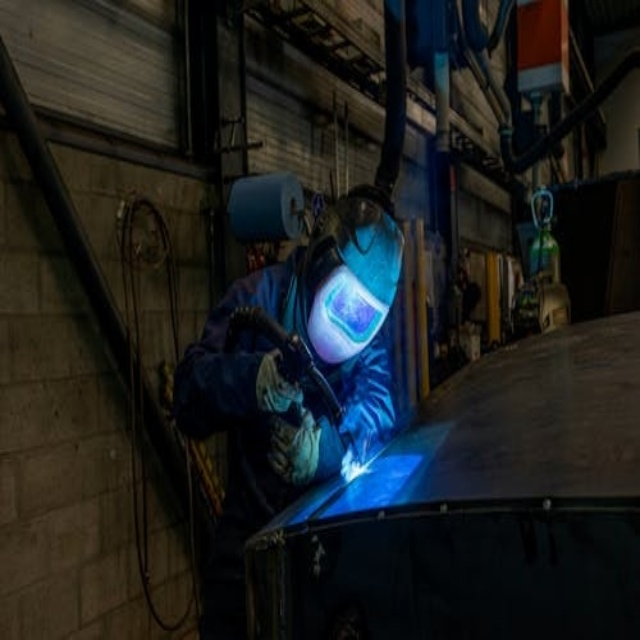Guantes: (266, 407, 325, 487), (256, 349, 304, 418)
